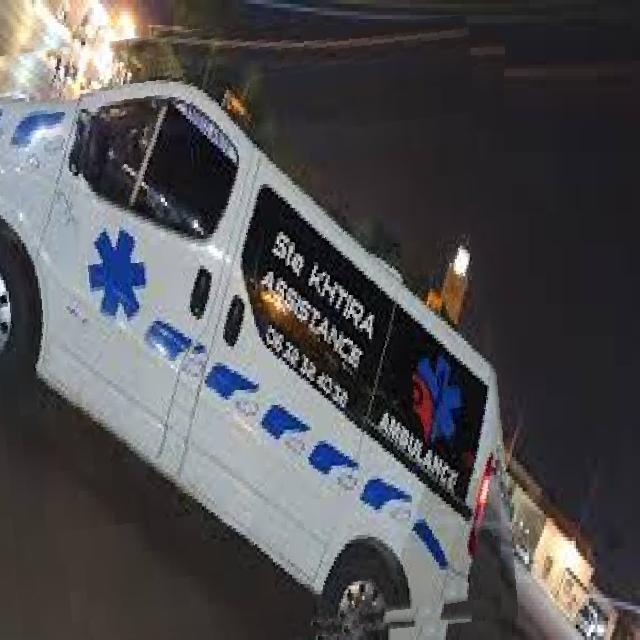ambulance: (0, 25, 505, 640)
